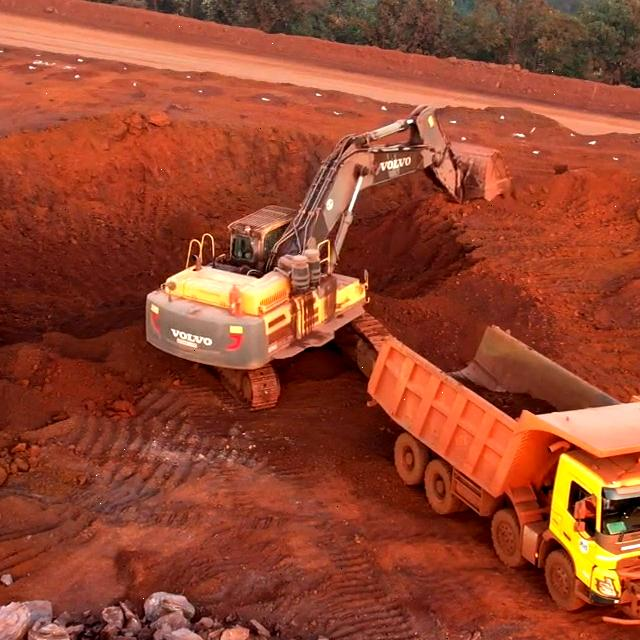Dumper truck: (494, 417, 640, 558)
Excavator: (140, 216, 381, 364), (310, 103, 522, 208)
